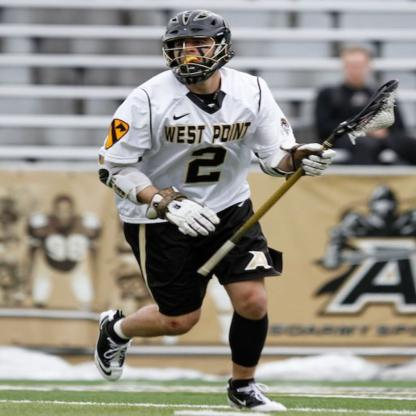Helmet: (162, 6, 236, 80)
